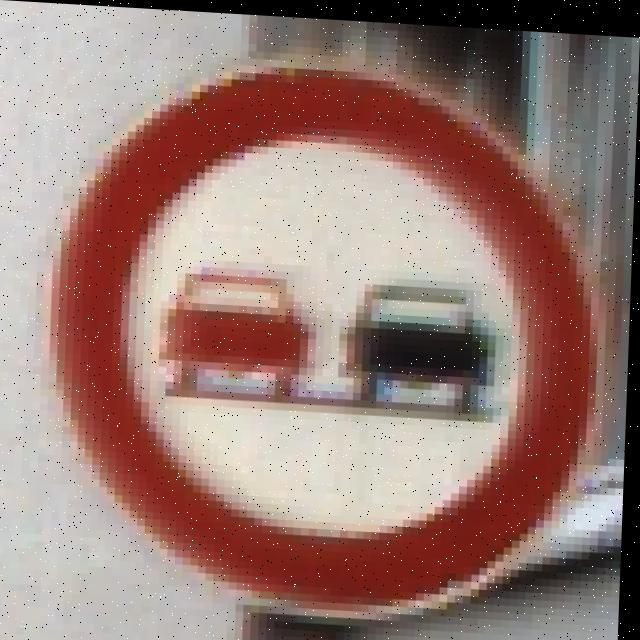no_overtaking: (67, 80, 590, 605)
